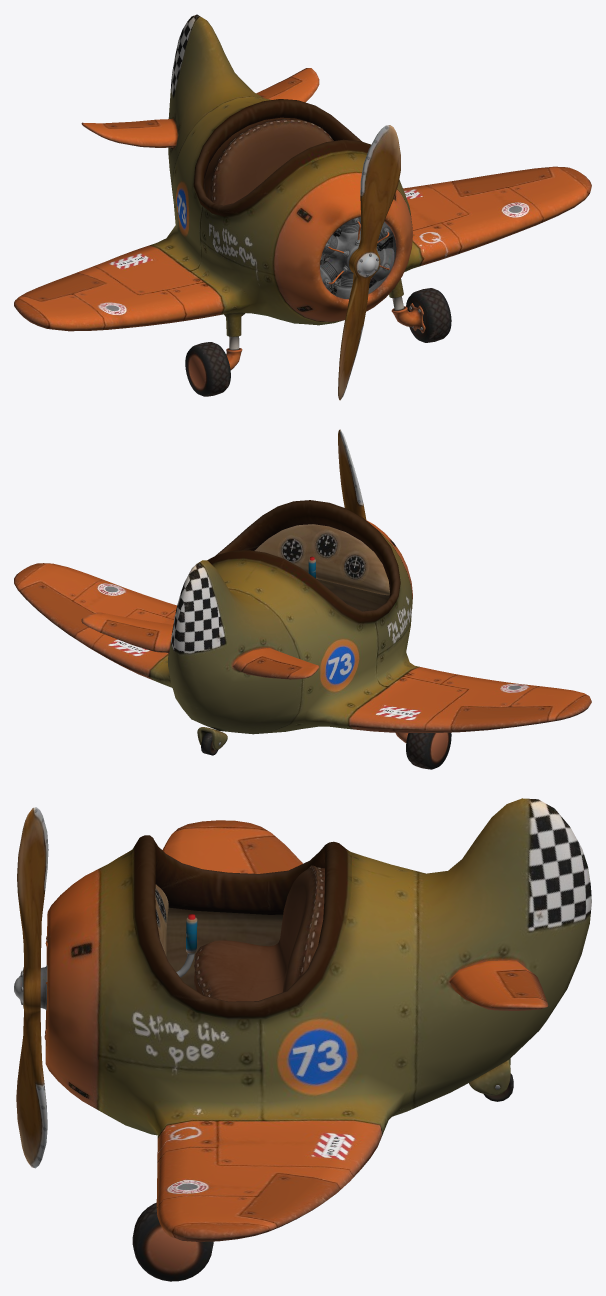
The model's file is toy_airplane.glb.
3 views of the same model, one above another, from view 1: azimuth 30°, elevation 25°; view 2: azimuth 150°, elevation 25°; view 3: azimuth 270°, elevation 25° (orthographic). The views are drawn at different scales.
Parts seen in each view (by area): view 1: Airplane_low; view 2: Airplane_low; view 3: Airplane_low.
Boxes of the visible parts, x1,y1,x2,y2 form: Airplane_low: (14, 14, 591, 400); Airplane_low: (14, 429, 591, 769); Airplane_low: (14, 798, 591, 1281).
Bounding box in the file's own units: 5.09 × 2.33 × 3.
1 material, 1 textured.
